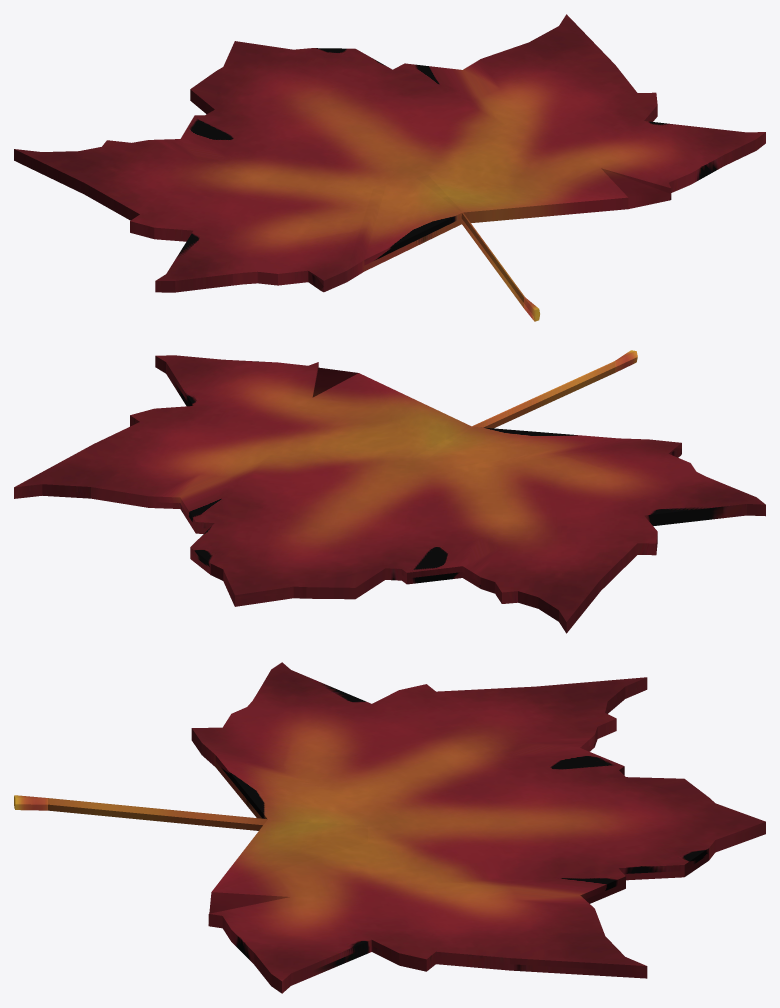
Rendered from Leaf_01_Low_Polygon.fbx.
3 views of the same model, one above another, from view 1: azimuth 30°, elevation 25°; view 2: azimuth 150°, elevation 25°; view 3: azimuth 270°, elevation 25° (orthographic). The views are drawn at different scales.
Visible parts, largest first — view 1: Leaf_01_Low; view 2: Leaf_01_Low; view 3: Leaf_01_Low.
Boxes of the visible parts, x1,y1,x2,y2 form: Leaf_01_Low: (14,14,765,321); Leaf_01_Low: (14,350,765,633); Leaf_01_Low: (14,662,765,993).
Bounding box in the file's own units: 3.14 × 0.0579 × 3.13.
